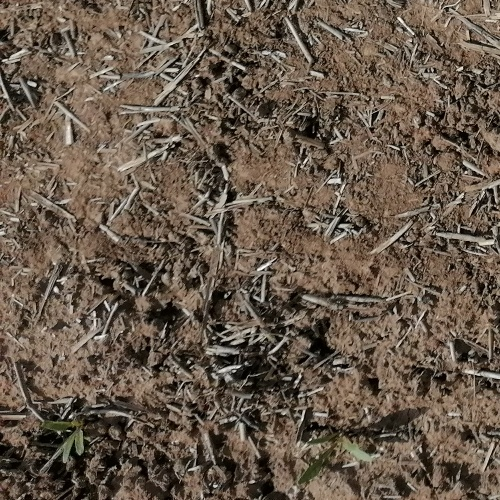beet: (296, 428, 372, 487), (44, 415, 87, 464)
